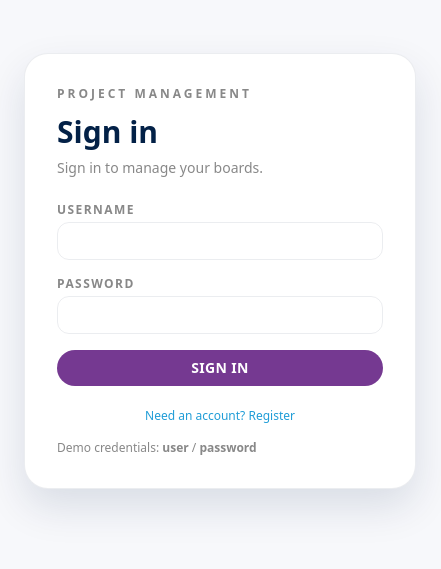
Test case: Home auth flow › shows register form when toggled
Click the button "Need an account? Register" at (220, 416), box [57,408,383,424]
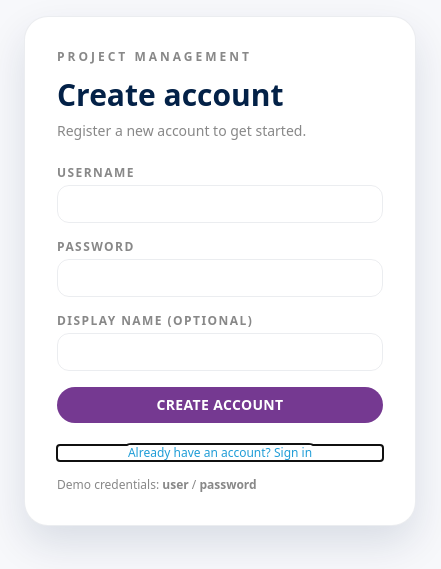
Expected: the heading "Create account" is shown, [57,74,284,115]
